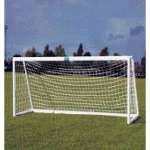goals: (12, 55, 143, 125)
